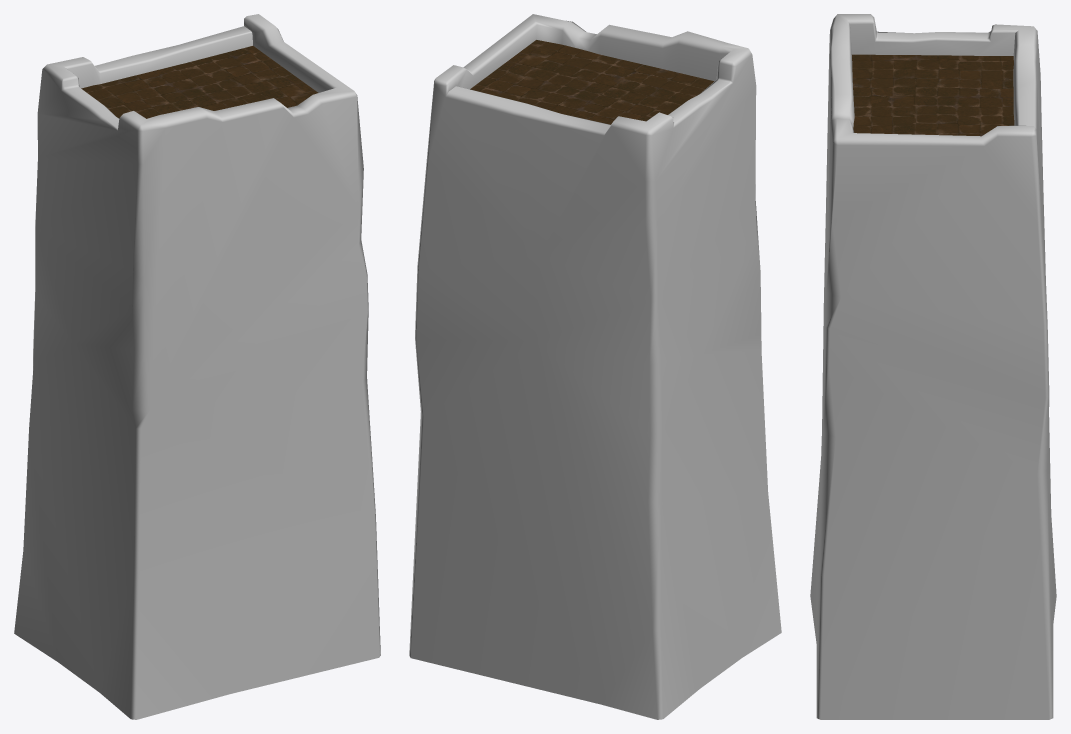
File: lower_city_house_05.fbx
3 views of the same model, side by side, from view 1: azimuth 30°, elevation 25°; view 2: azimuth 150°, elevation 25°; view 3: azimuth 270°, elevation 25° (orthographic).
Parts seen in each view (by area): view 1: lower_city_house_05; view 2: lower_city_house_05; view 3: lower_city_house_05.
Boxes of the visible parts, <box> form: lower_city_house_05: <box>14,14,380,719</box>; lower_city_house_05: <box>409,14,781,719</box>; lower_city_house_05: <box>810,14,1056,719</box>.
Bounding box in the file's own units: 4.6 × 10.09 × 3.81.
